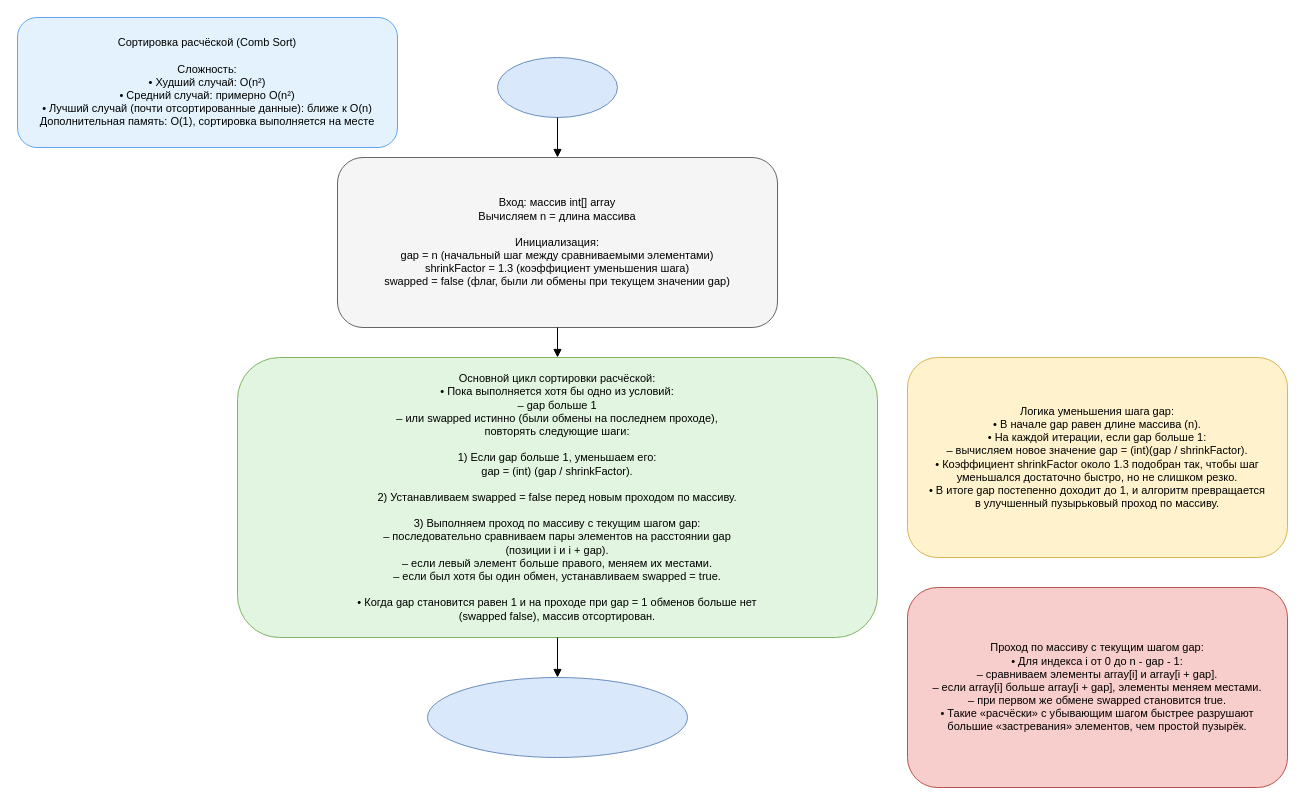
Some shapes in this 1305 by 805 pixel diagram are drawn without their labels. The centre of each missing label's shape, as x and y in pixels:
"Finish" belongs at [557,717].
"Start" belongs at [557,87].
